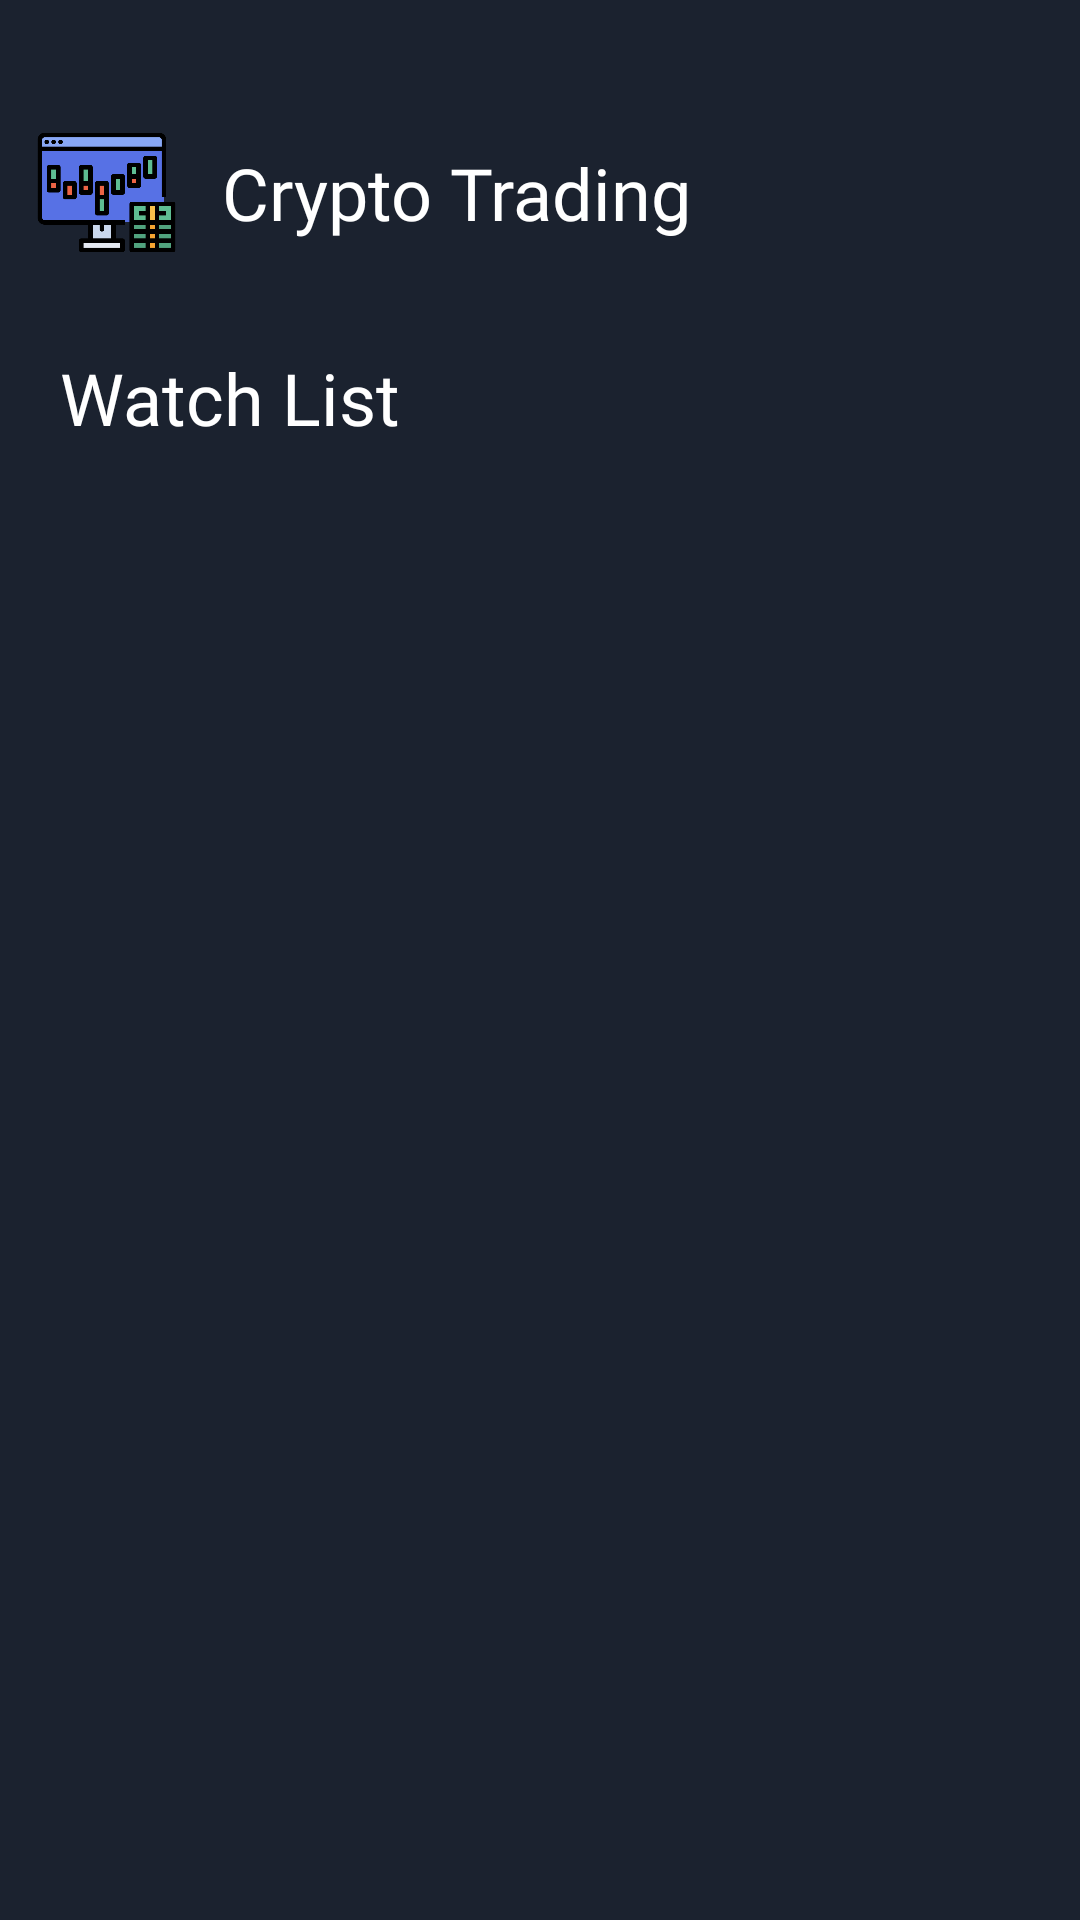

Icon bounding boxes for this 1080w x 1920h phone screenshot, format (x1, y1, x2, y2):
investment: (38, 133, 175, 252)
